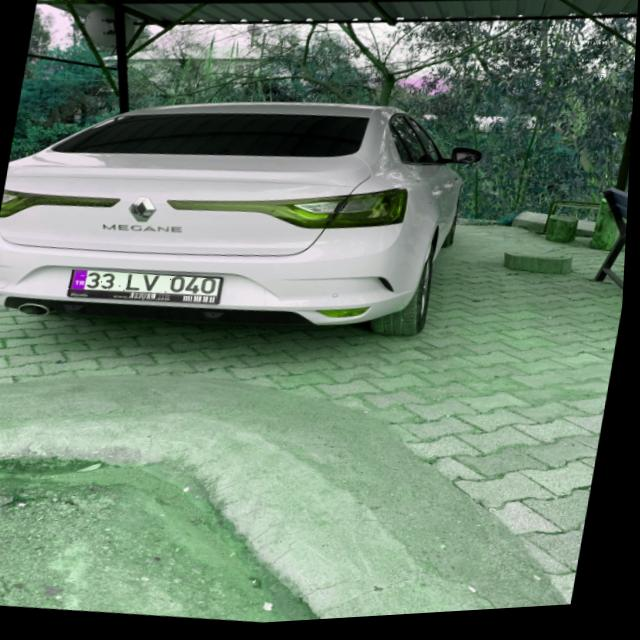license_plate: (69, 264, 225, 311)
